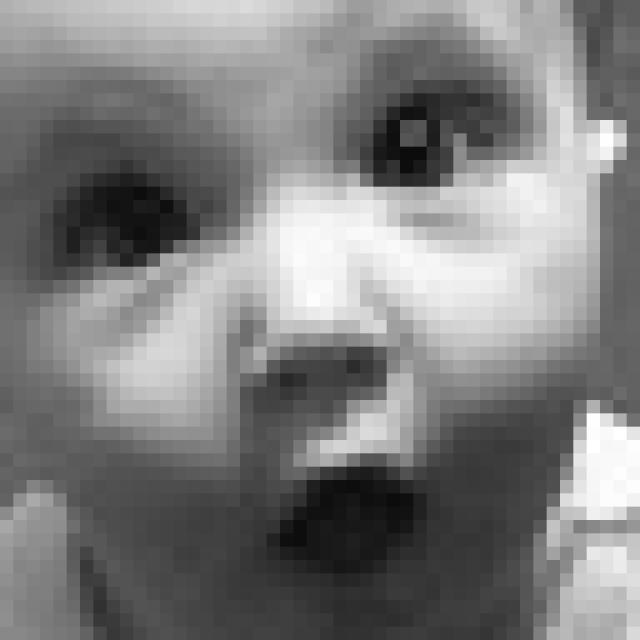surprise: (33, 30, 560, 611)
